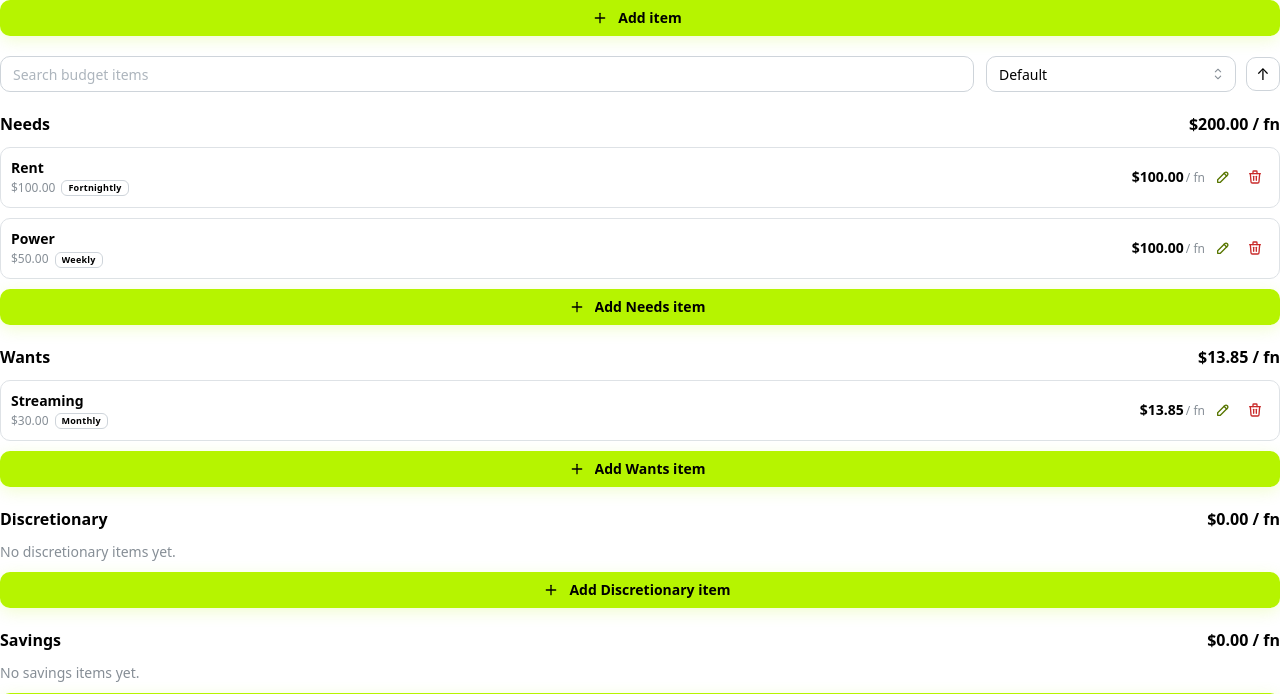
Scenario: BudgetLineList › offers the funding accounts when editing a line
Click the button named "edit" in the row of "Fortnightly" at (1223, 177), box [1209, 163, 1237, 191]
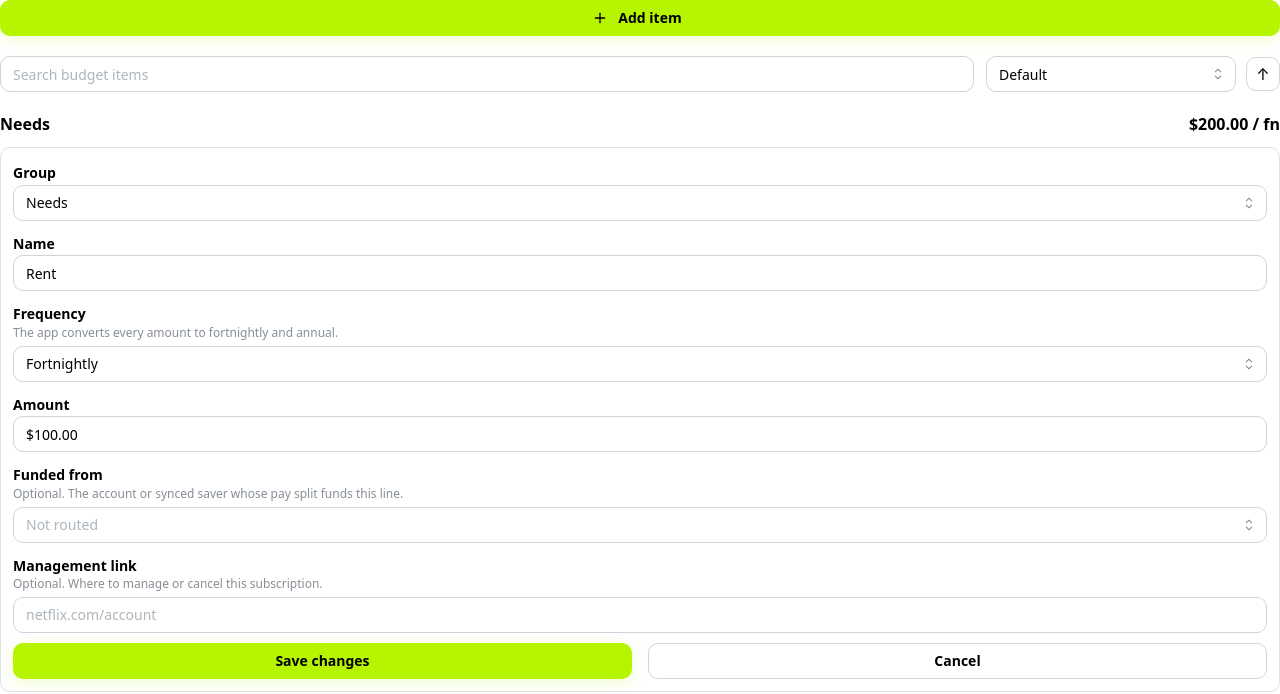
Click the dropdown labelled "Funded from" at (640, 525), box [13, 507, 1267, 543]
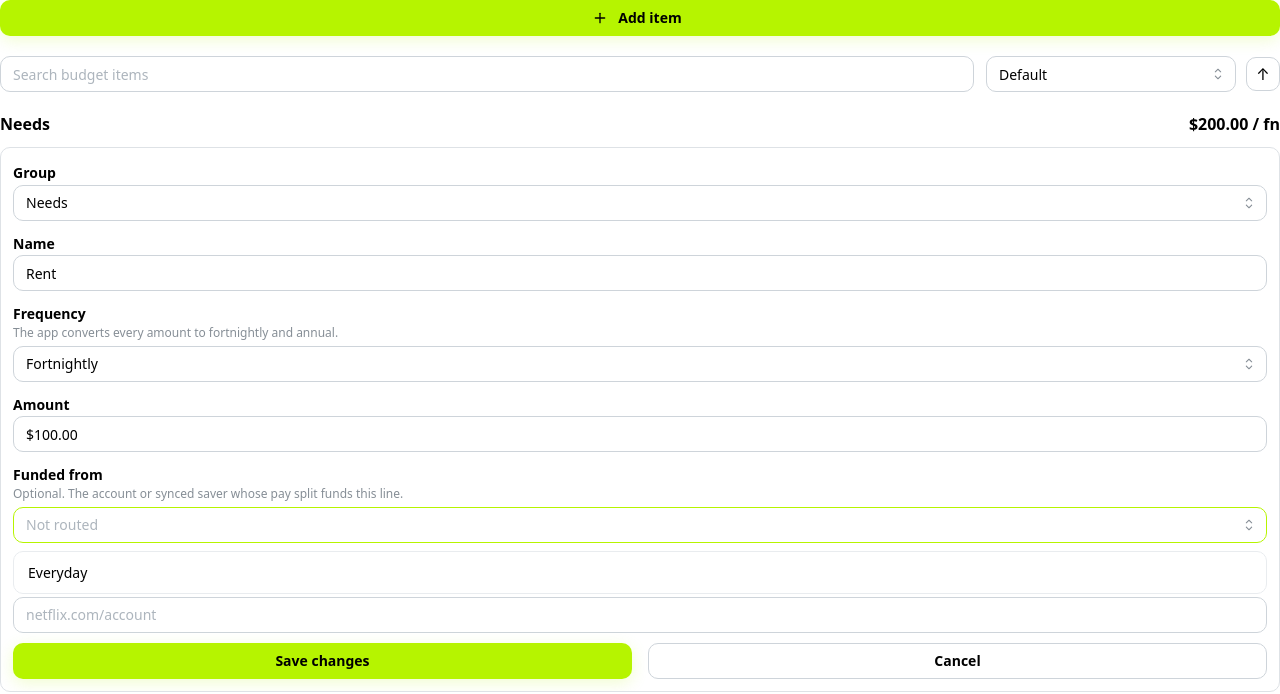
Expected: the option "Everyday" is shown, [28, 562, 87, 582]
